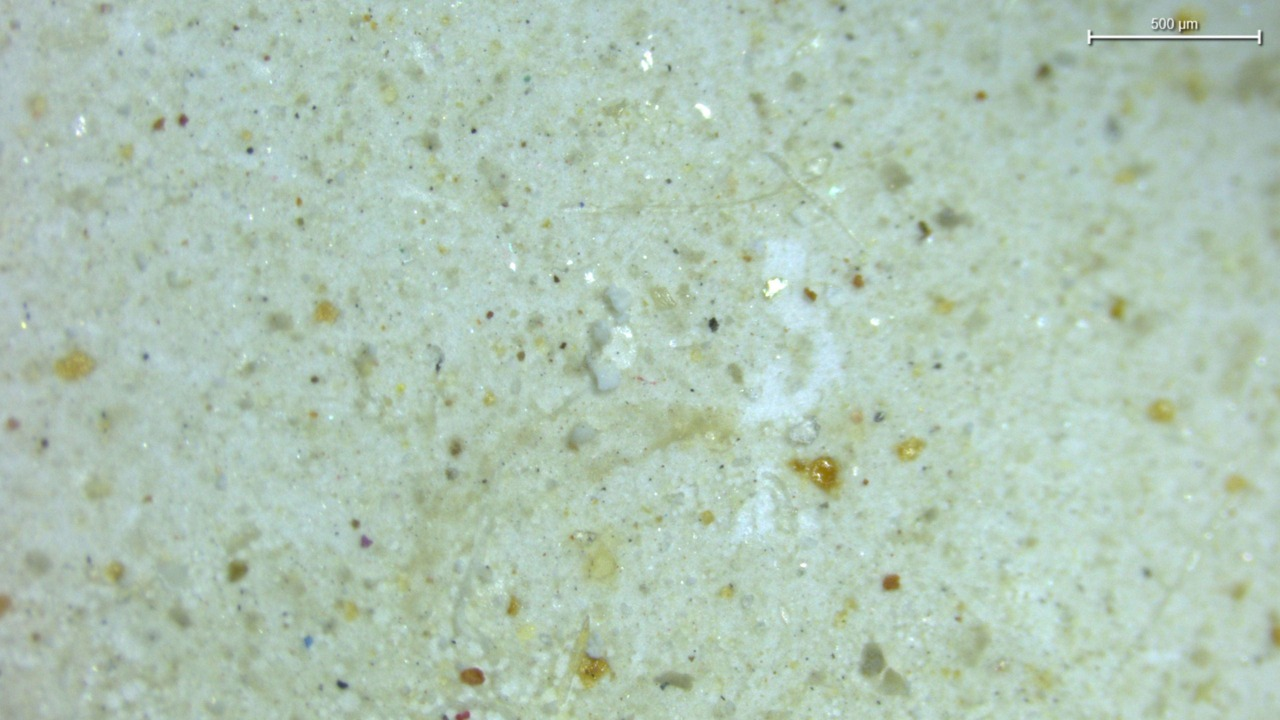microplastic_fragment: (587, 356, 620, 391), (788, 416, 819, 445), (604, 286, 631, 318), (567, 423, 597, 450)
